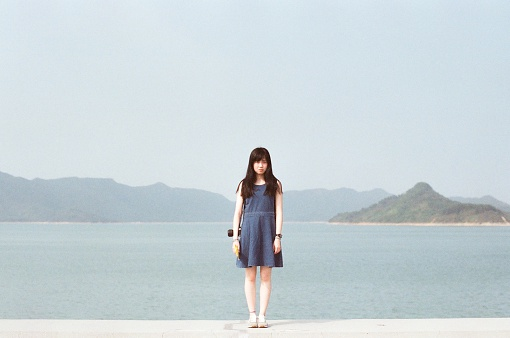em pe: (226, 139, 285, 333)
